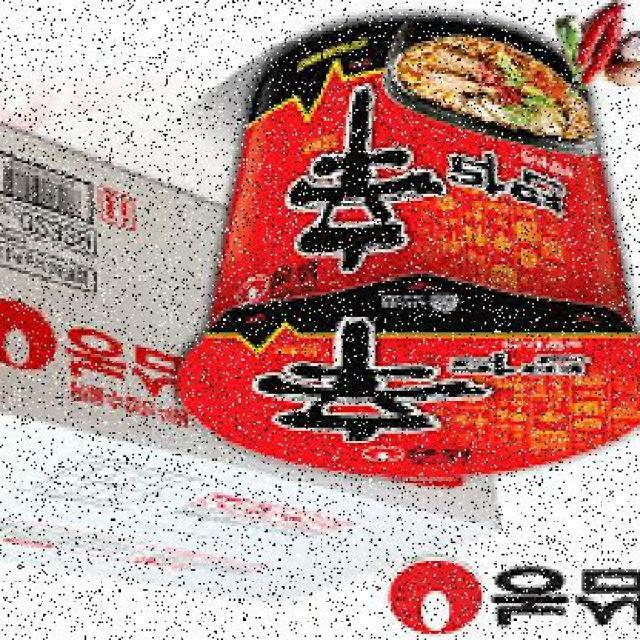Miscellaneous: (174, 28, 640, 484)
